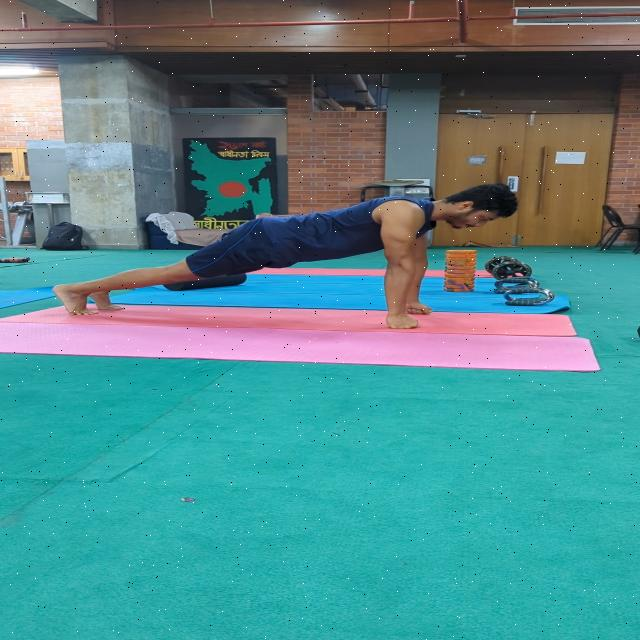Normal_PushUps: (38, 175, 530, 347)
